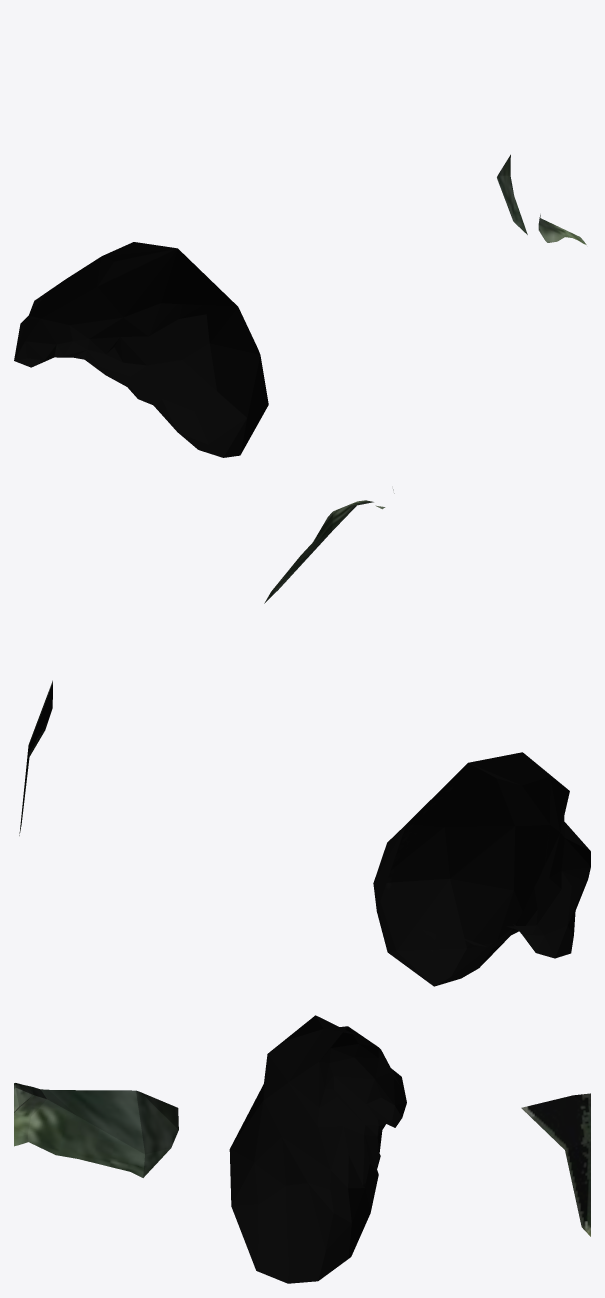
3 views of the same model, one above another, from view 1: azimuth 30°, elevation 25°; view 2: azimuth 150°, elevation 25°; view 3: azimuth 270°, elevation 25° (orthographic). The views are drawn at different scales.
Size of the model in its own units: 4.73 by 3.3 by 5.9.
1 material, 1 textured.
